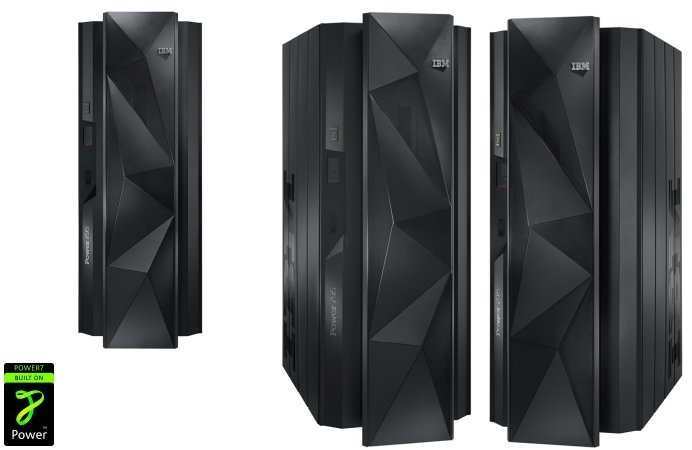ibm-server: (263, 11, 479, 450), (482, 11, 688, 450), (63, 5, 218, 358)
